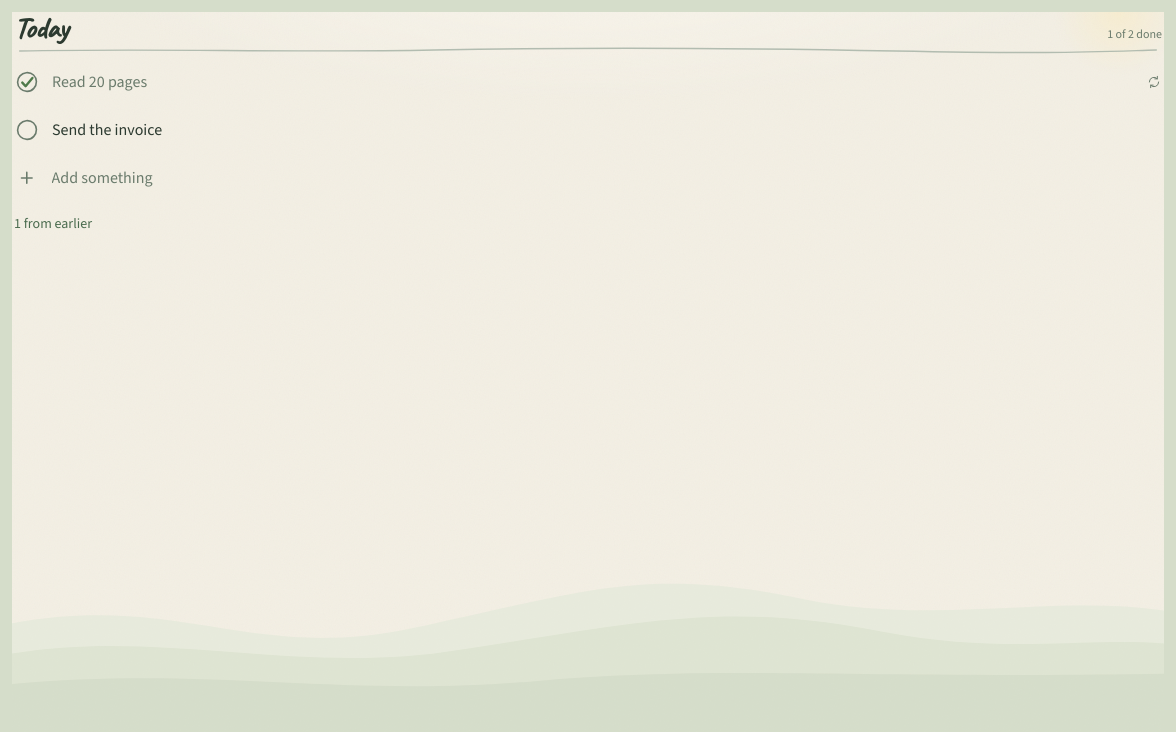
it: TodayList › adds a task for the day, or a habit when marked Daily
Type "Call mom" into the field named "Add something for today" at {"x": 607, "y": 178}, box [52,158,1162,198]
Then press Enter
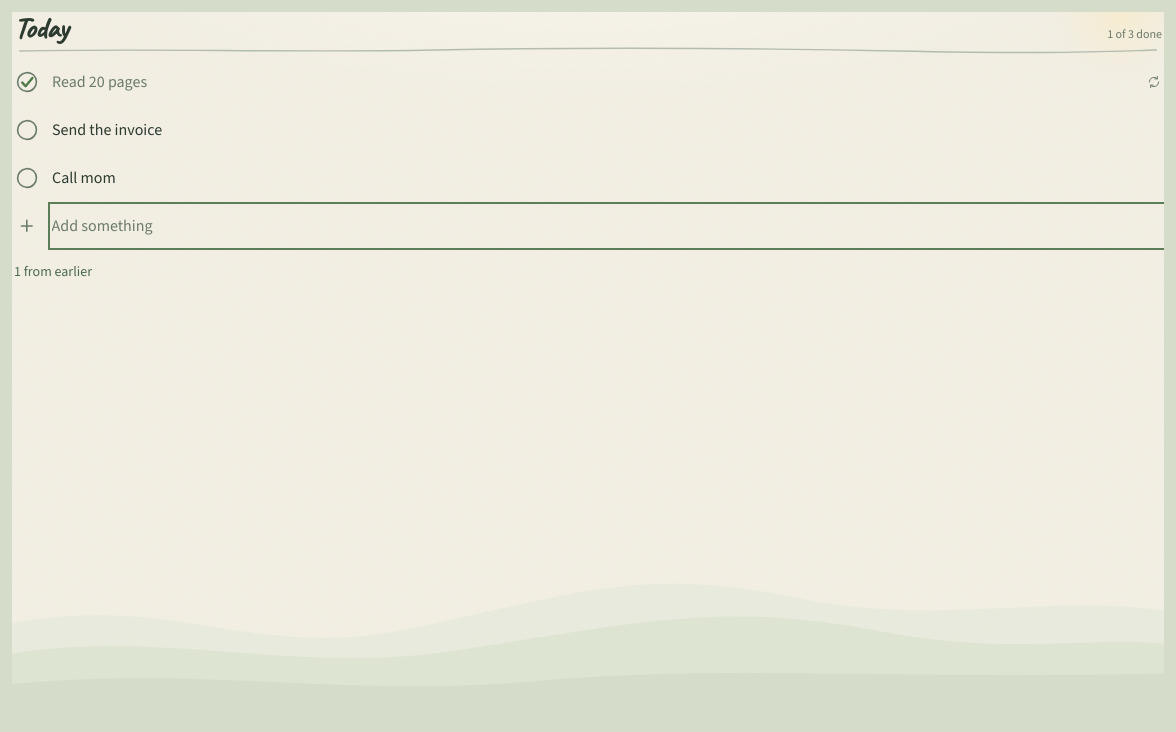
Expected: the checkbox labelled "Call mom" is shown, [12,154,1164,202]
Type "Stretch" into the field named "Add something for today" at {"x": 607, "y": 226}, box [52,206,1162,246]
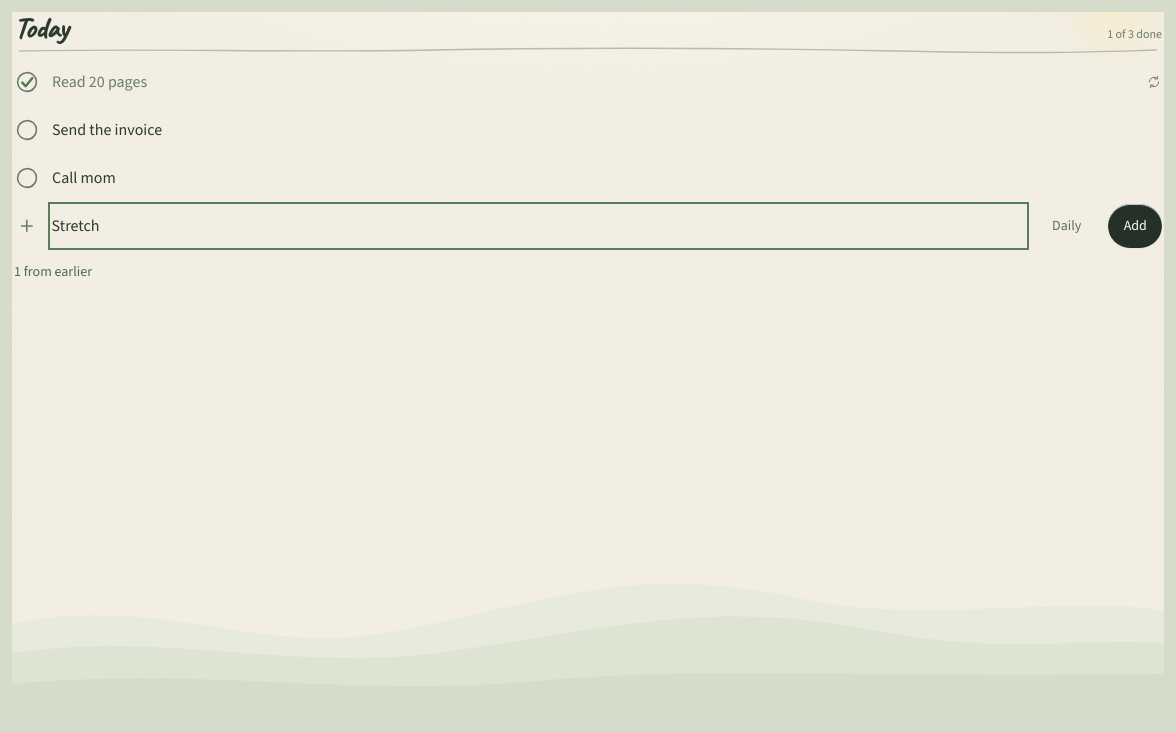
Click the button "Daily" at {"x": 1067, "y": 226}, box [1037,204,1096,248]
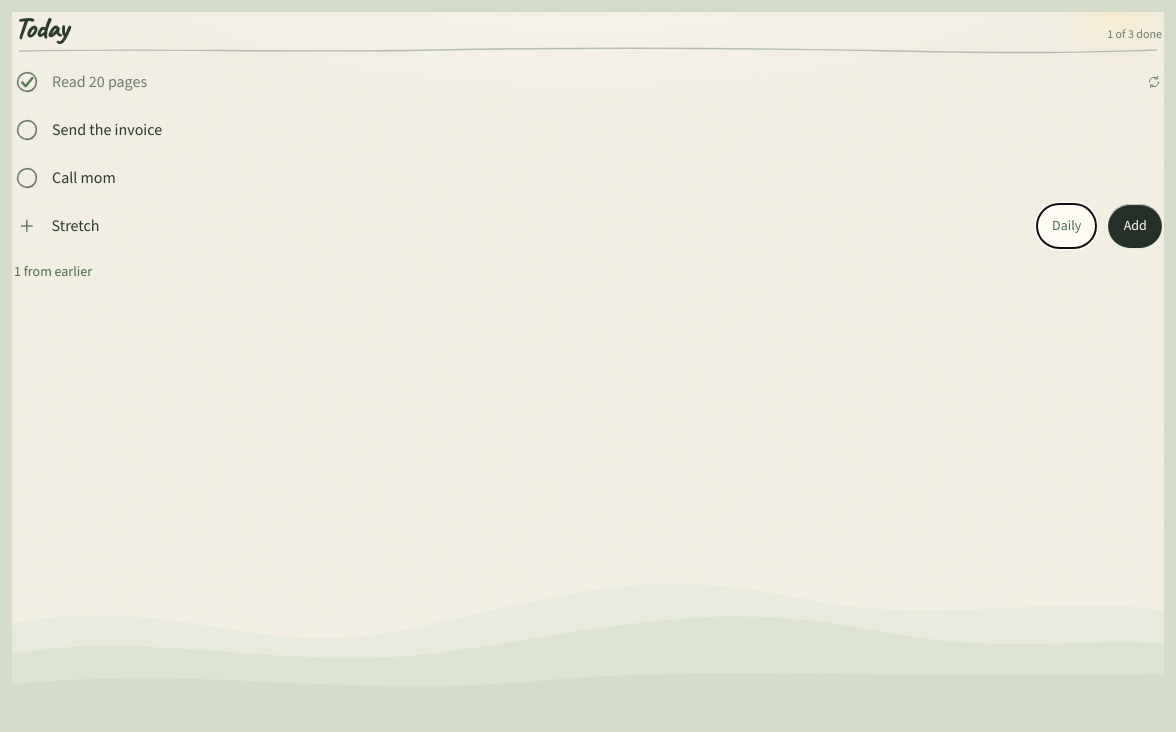
Click the button "Add" at {"x": 1135, "y": 226}, box [1108,204,1162,248]
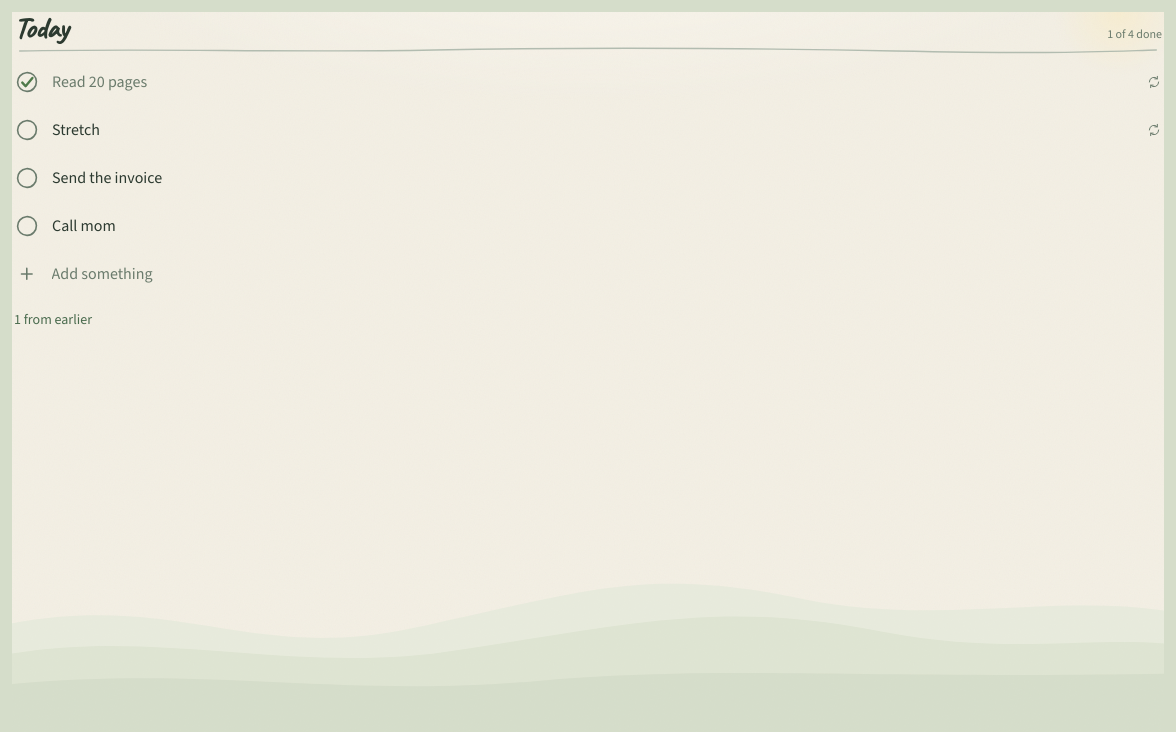
Expected: the checkbox labelled "Stretch" is shown, [12,106,1164,154]
